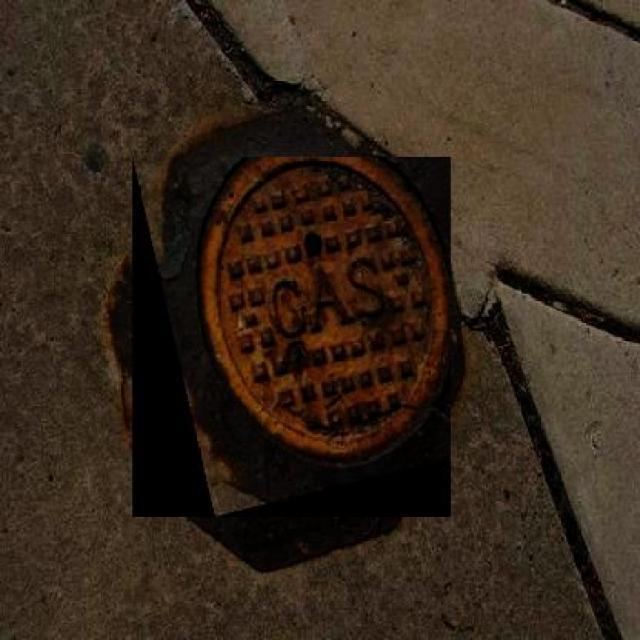Manhole: (132, 156, 451, 518)
Pothole: (160, 0, 382, 151), (485, 244, 640, 354), (541, 0, 640, 52), (70, 136, 113, 184)
